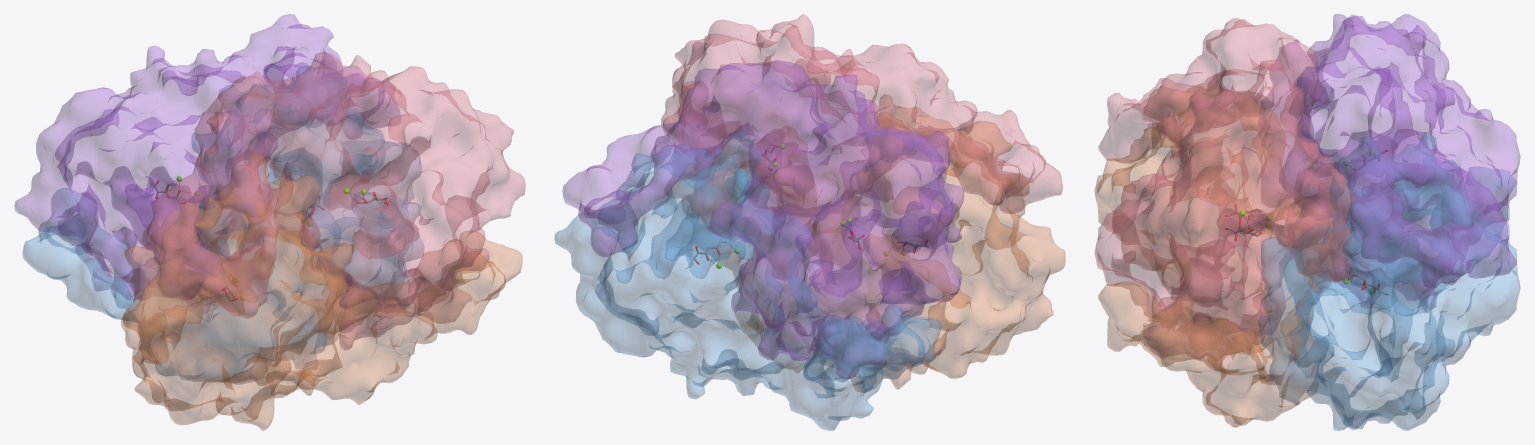
File: enzym_opt.glb
The picture shows the model from 3 angles, left to right: view 1: azimuth 30°, elevation 25°; view 2: azimuth 150°, elevation 25°; view 3: azimuth 270°, elevation 25°; orthographic projection. The views are drawn at different scales.
Parts seen in each view (by area): view 1: 1xyb A_A SES surface, 1xyb A_A SES surface.001, 1xyb B_B SES surface.001, 1xyb B_B SES surface; view 2: 1xyb B_B SES surface.001, 1xyb B_B SES surface, 1xyb A_A SES surface, 1xyb A_A SES surface.001; view 3: 1xyb A_A SES surface, 1xyb B_B SES surface, 1xyb B_B SES surface.001, 1xyb A_A SES surface.001.
Boxes of the visible parts, <box> form: 1xyb A_A SES surface: <box>141,52,525,350</box>; 1xyb A_A SES surface.001: <box>121,154,522,430</box>; 1xyb B_B SES surface.001: <box>14,14,400,310</box>; 1xyb B_B SES surface: <box>22,66,423,384</box>; 1xyb B_B SES surface.001: <box>562,60,963,378</box>; 1xyb B_B SES surface: <box>554,131,940,430</box>; 1xyb A_A SES surface: <box>661,14,1062,280</box>; 1xyb A_A SES surface.001: <box>682,94,1065,392</box>; 1xyb A_A SES surface: <box>1094,18,1354,360</box>; 1xyb B_B SES surface: <box>1258,132,1520,430</box>; 1xyb B_B SES surface.001: <box>1261,14,1520,312</box>; 1xyb A_A SES surface.001: <box>1094,82,1335,427</box>.
Bounding box in the file's own units: 93.17 × 76.06 × 81.61.
